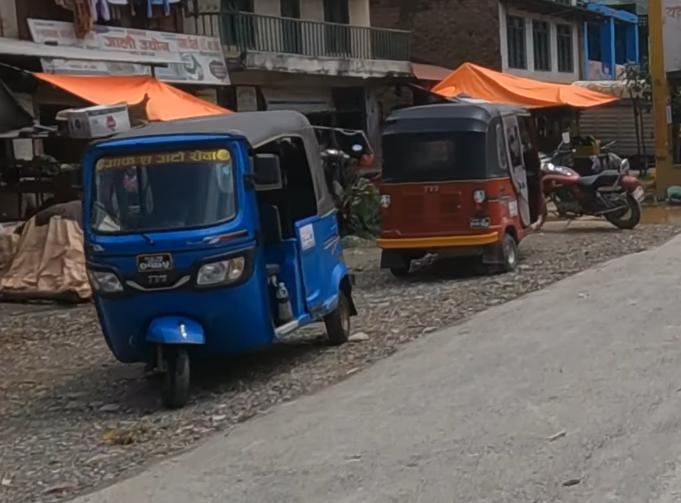auto_rickshaw: (76, 104, 361, 418), (370, 96, 552, 280)
bike: (535, 154, 645, 234)
